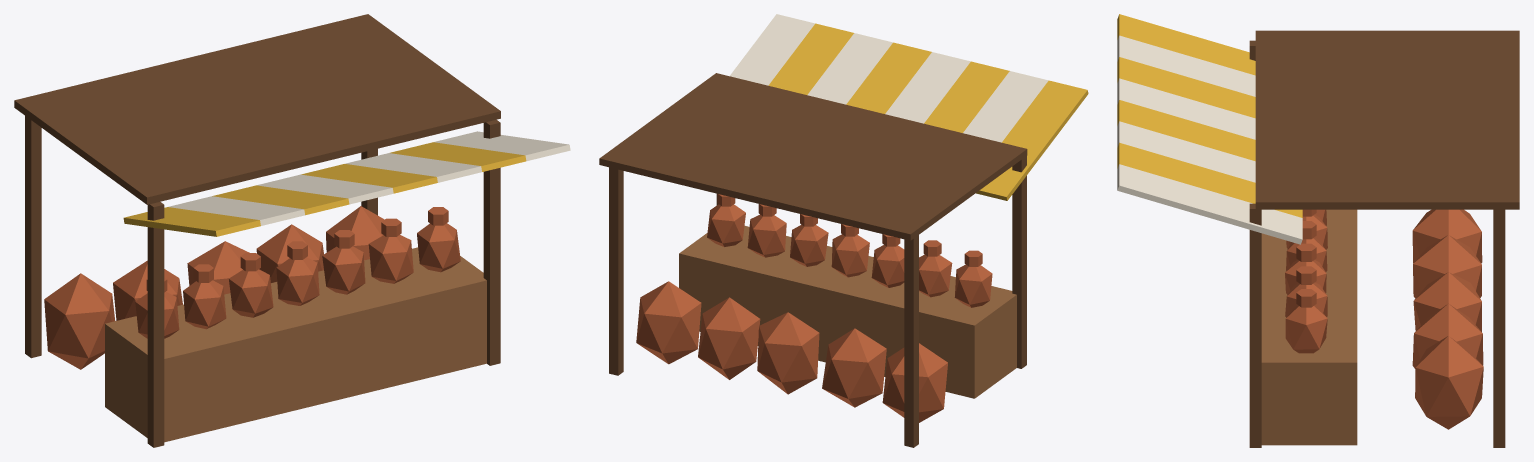
The model's file is basar_krukor.glb.
3 renders of one model, left to right at view 1: azimuth 30°, elevation 25°; view 2: azimuth 150°, elevation 25°; view 3: azimuth 270°, elevation 25°, orthographic. The views are drawn at different scales.
Parts seen in each view (by area): view 1: basar_krukor; view 2: basar_krukor; view 3: basar_krukor.
Boxes of the visible parts, bbox=[...] form: basar_krukor: bbox=[14, 14, 570, 447]; basar_krukor: bbox=[599, 14, 1088, 447]; basar_krukor: bbox=[1117, 14, 1519, 447].
Bounding box in the file's own units: 4.03 × 2.9 × 3.96.
